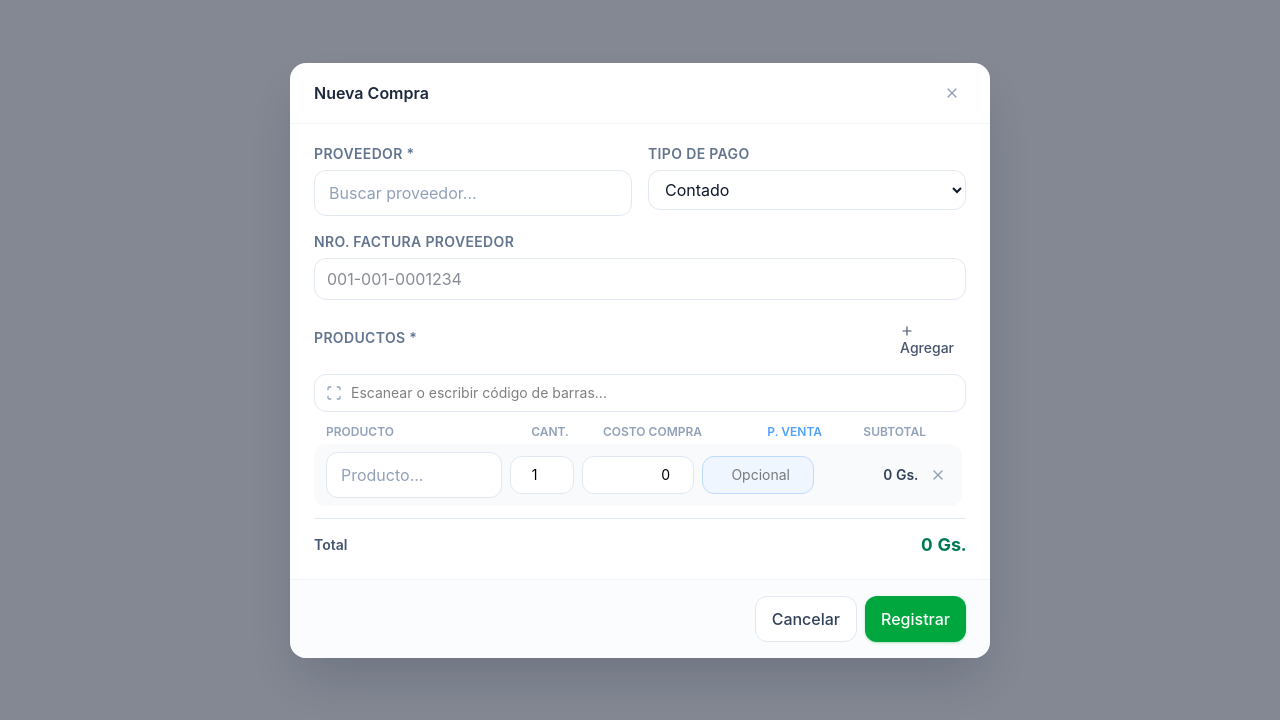
Test: ModalCompra — margen costo vs. venta (Bloque 1) › muestra el margen al seleccionar un producto con precio de compra y venta conocidos
The width and height of the screenshot is (1280, 720).
Click the dropdown with placeholder "Buscar proveedor..." at {"x": 473, "y": 192}, box top-left (314, 170), bottom-right (632, 216)
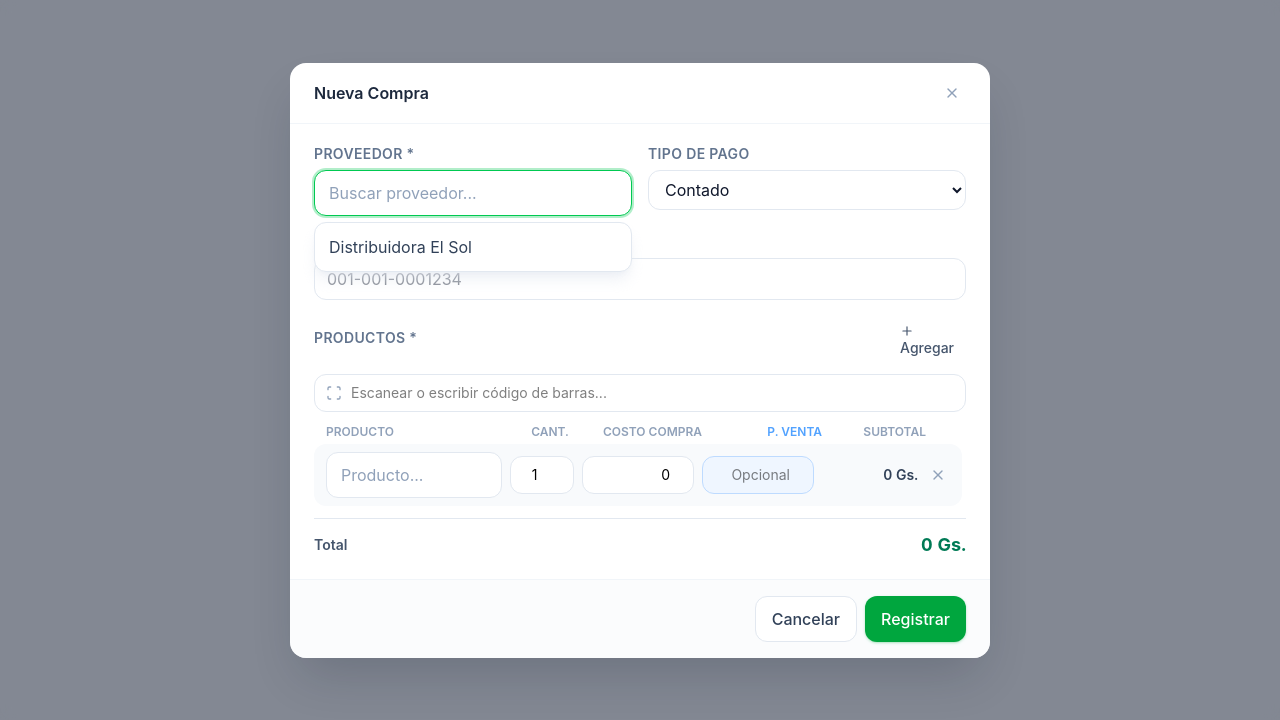
Click the option "Distribuidora El Sol" at {"x": 400, "y": 246}, box top-left (329, 236), bottom-right (472, 256)
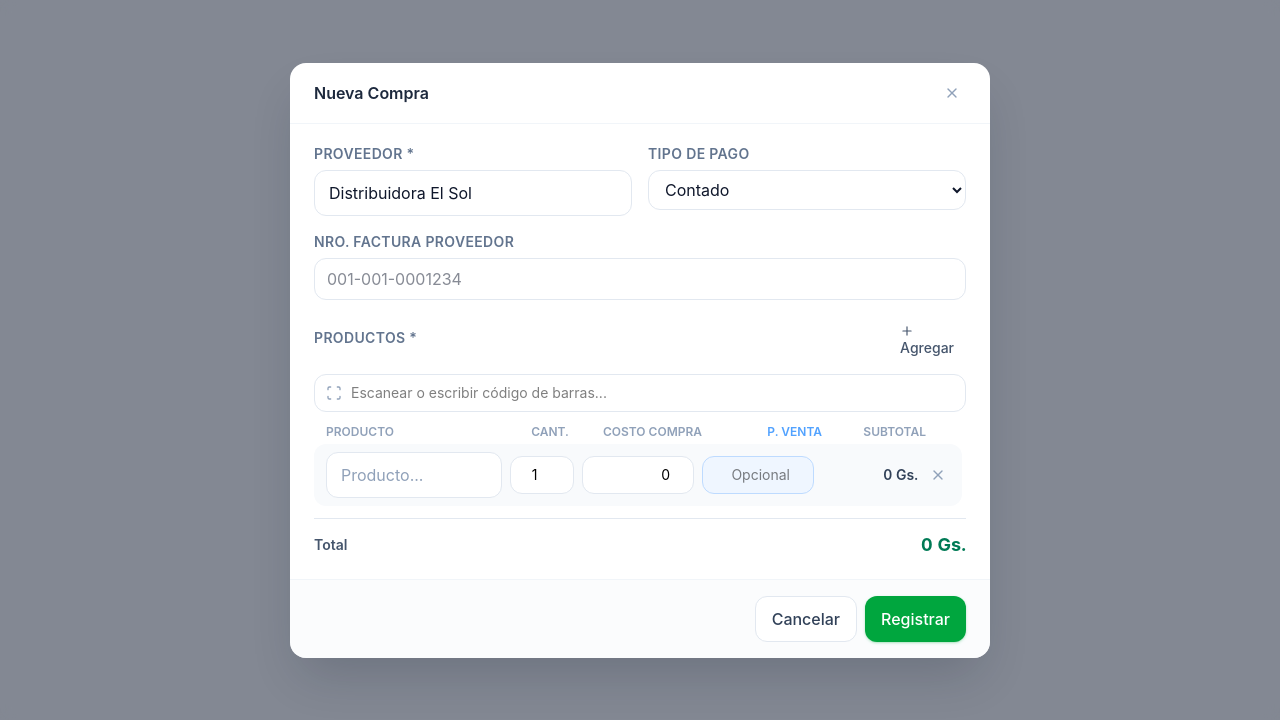
Click the dropdown with placeholder "Producto..." at {"x": 414, "y": 474}, box top-left (326, 452), bottom-right (502, 498)
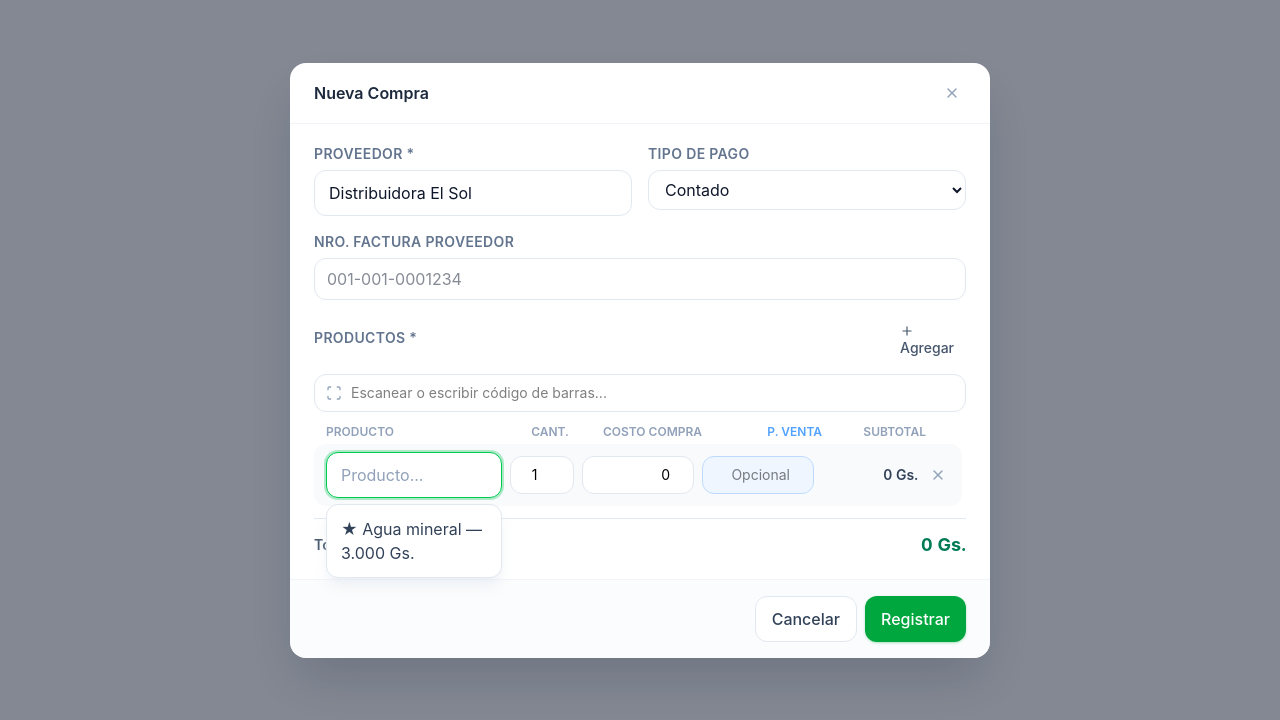
Click the option "★ Agua mineral — 3.000 Gs." at {"x": 412, "y": 540}, box top-left (341, 518), bottom-right (482, 562)
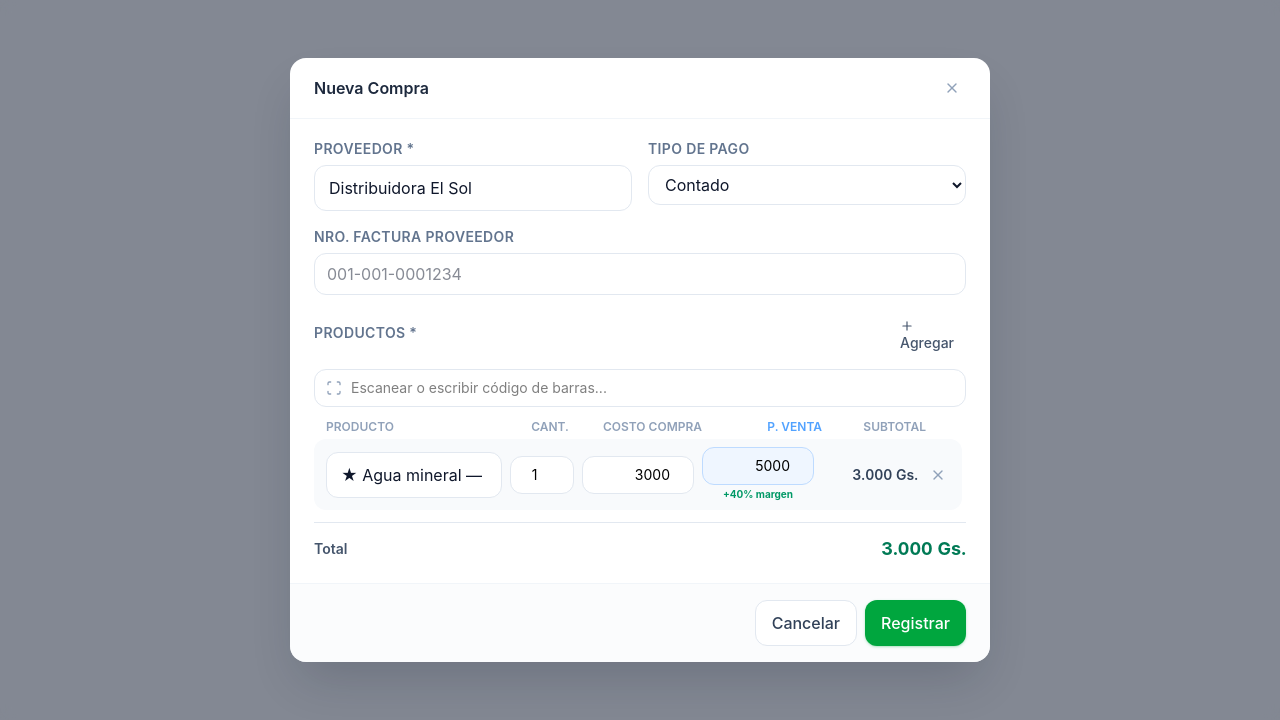
Check: the text "+40% margen" is shown, box top-left (723, 488), bottom-right (793, 500)
